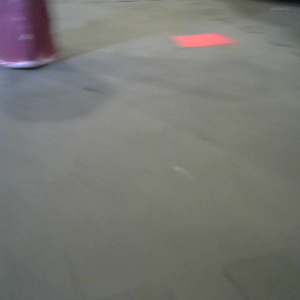middle: (1, 1, 60, 68)
